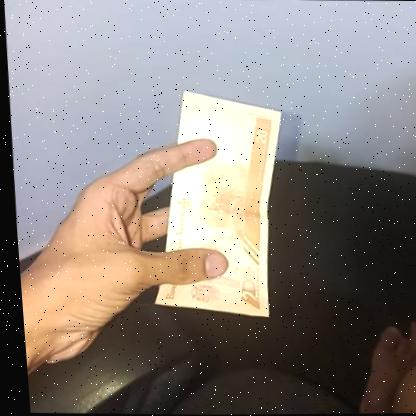twenty-back-vef: (137, 88, 290, 320)
